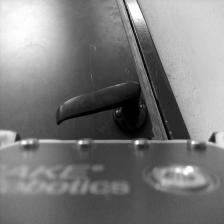Door Handle: (55, 77, 150, 137)
